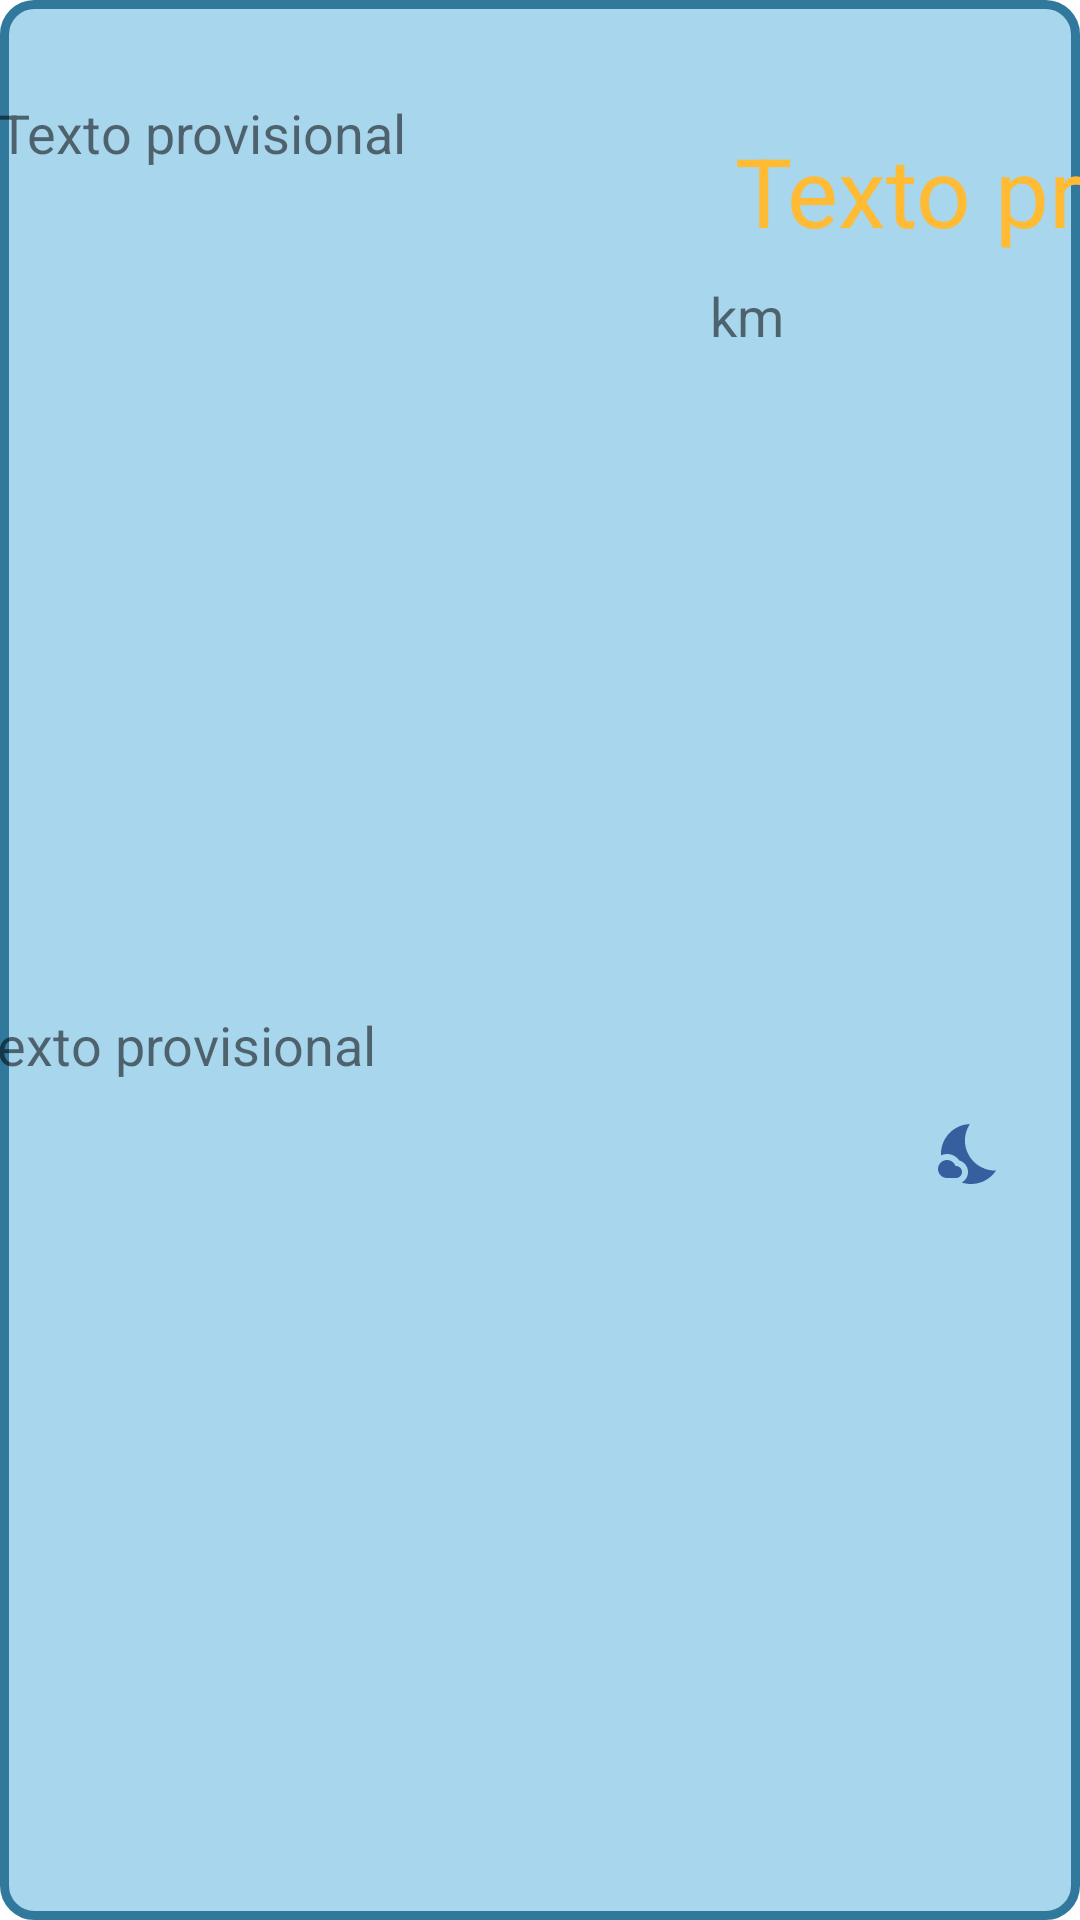

Locate icon controls on the screen. Image size 1080×1920, boxes as (x1, y1, x2, y2).
nights stay: (938, 1124, 996, 1184)
